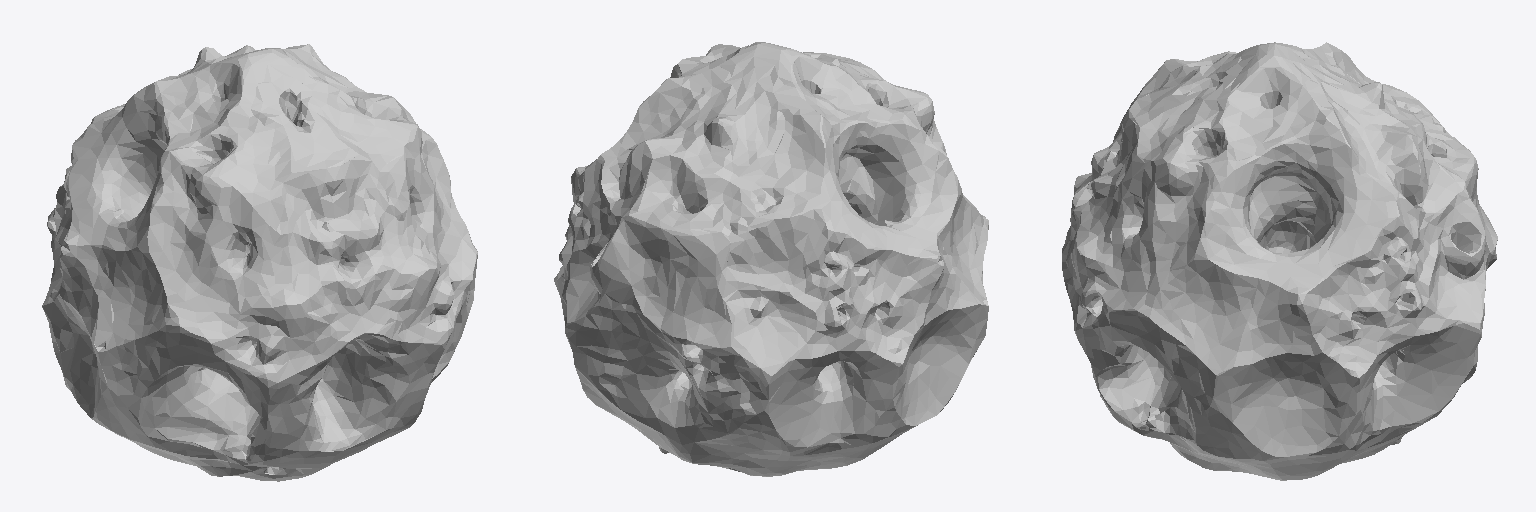
Rendered from tripo_convert_b6000dfa-6bde-45c9-8681-404877e94078.obj.
3 views of the same model, side by side, from view 1: azimuth 30°, elevation 25°; view 2: azimuth 150°, elevation 25°; view 3: azimuth 270°, elevation 25° (orthographic).
Visible parts, largest first — view 1: tripo_node_b6000dfa-6bde-45c9-8681-404877e94078; view 2: tripo_node_b6000dfa-6bde-45c9-8681-404877e94078; view 3: tripo_node_b6000dfa-6bde-45c9-8681-404877e94078.
Boxes of the visible parts, x1=… form: tripo_node_b6000dfa-6bde-45c9-8681-404877e94078: x1=42, y1=44, x2=477, y2=481; tripo_node_b6000dfa-6bde-45c9-8681-404877e94078: x1=554, y1=42, x2=988, y2=476; tripo_node_b6000dfa-6bde-45c9-8681-404877e94078: x1=1062, y1=42, x2=1497, y2=480.
Size of the model in its own units: 0.9603 by 1 by 0.9581.